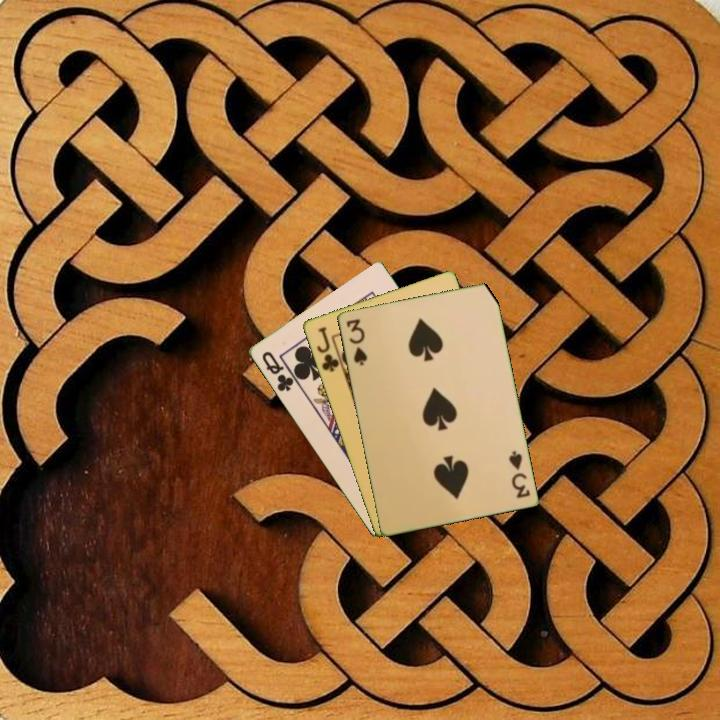3s: (505, 447, 533, 501), (342, 315, 370, 368)
Jc: (313, 323, 342, 375)
Qc: (258, 348, 301, 395)
